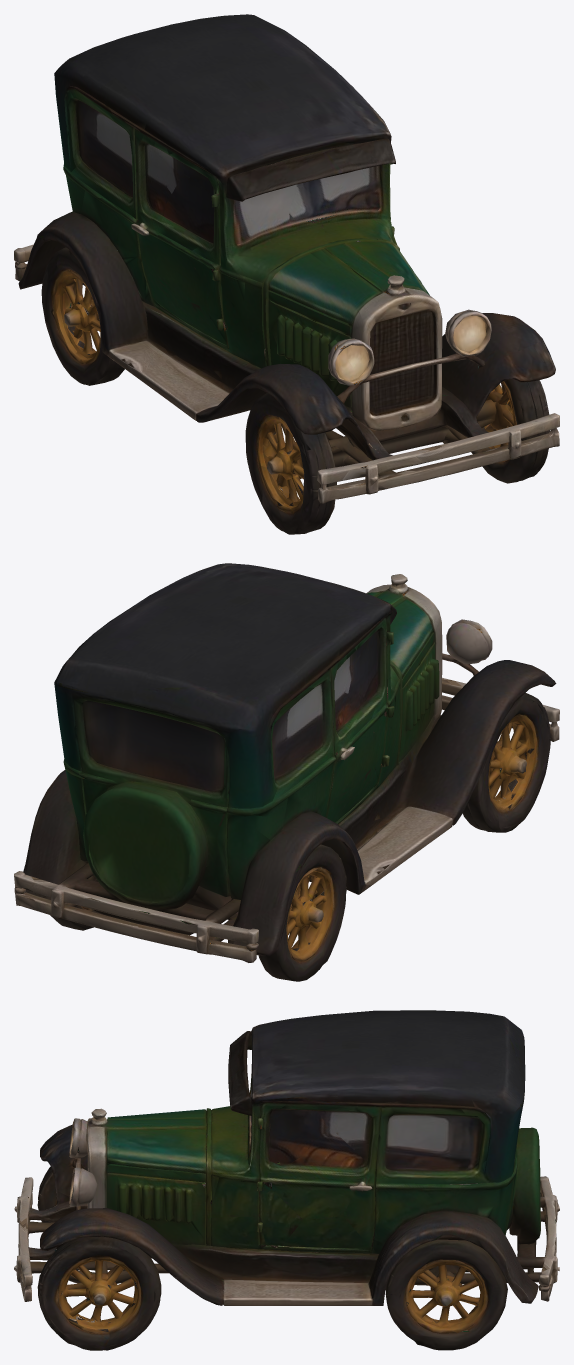
Rendered from tudor-car-green.glb.
The picture shows the model from 3 angles, top to bottom: view 1: azimuth 30°, elevation 25°; view 2: azimuth 150°, elevation 25°; view 3: azimuth 270°, elevation 25°; orthographic projection. The views are drawn at different scales.
Visible parts, largest first — view 1: SM_TudorCarGreen; view 2: SM_TudorCarGreen; view 3: SM_TudorCarGreen.
Part boxes in pixels (x1,y1,x2,y2): SM_TudorCarGreen: [14, 14, 559, 534]; SM_TudorCarGreen: [14, 563, 559, 981]; SM_TudorCarGreen: [14, 1010, 559, 1350].
Size of the model in its own units: 1.86 by 2.13 by 4.
Materials: 1 (1 with a texture image).
